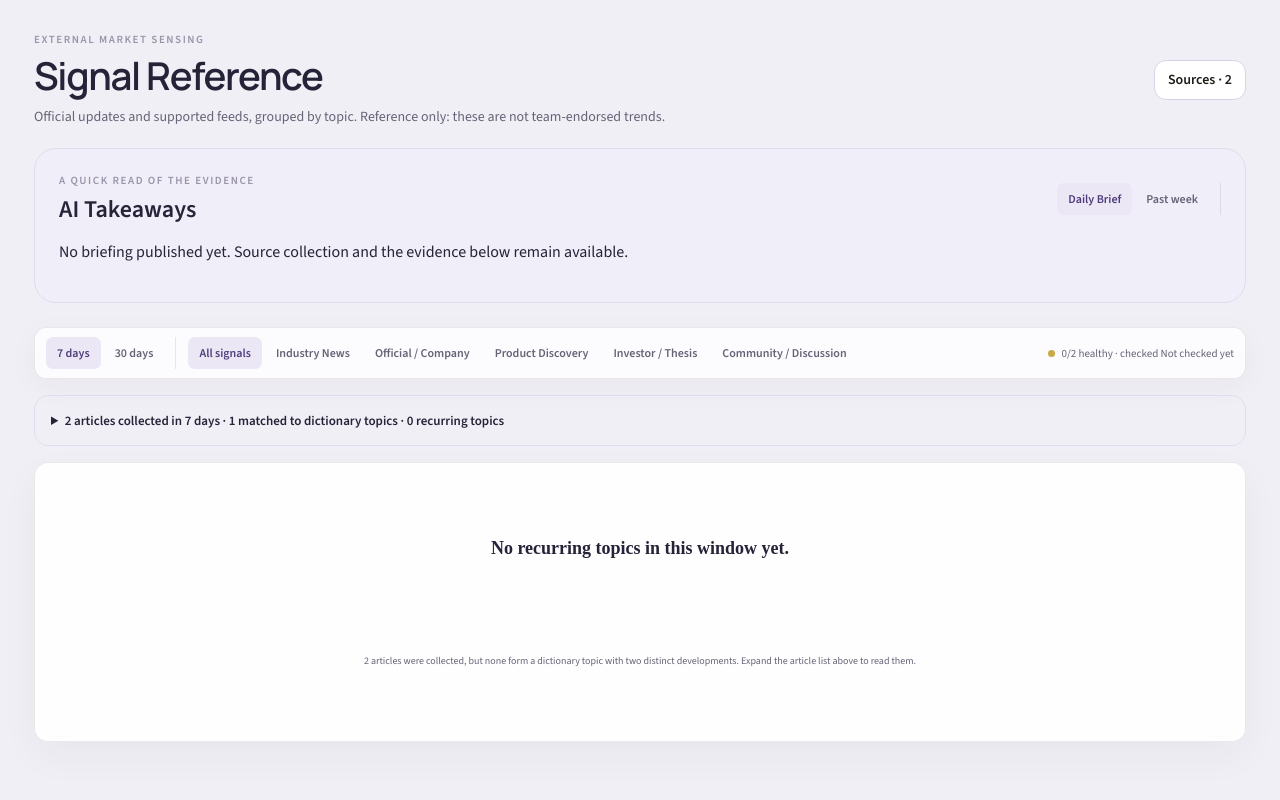
shows collected investor articles even when no recurring topic qualifies
Click the button "Investor / Thesis".
click(655, 353)  # box left=602, top=337, right=708, bottom=369
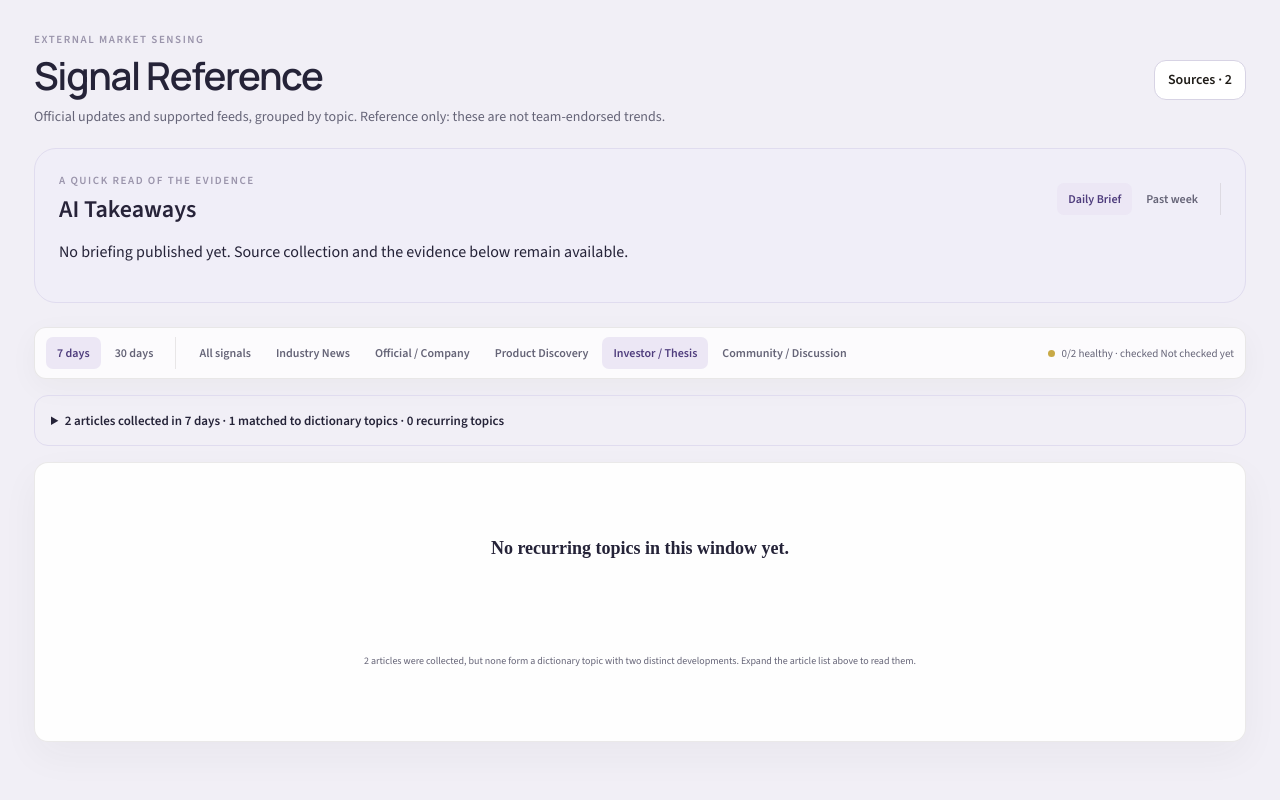
Click the heading "2 articles collected in 7 days · 1 matched to dictionary topics · 0 recurring topics".
click(285, 421)  # box left=65, top=412, right=504, bottom=429
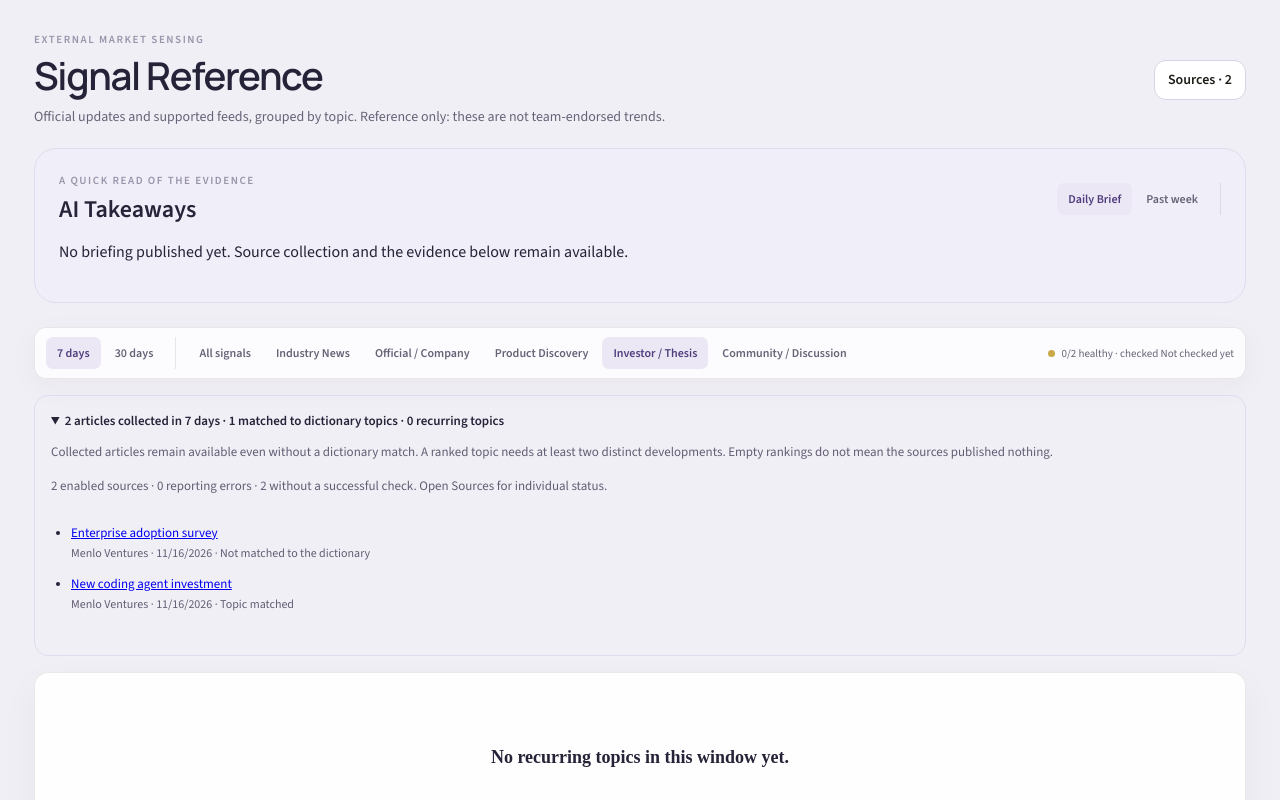
expect the text "No recurring topics in this window yet." is shown: met, box left=491, top=747, right=789, bottom=768
expect the link "New coding agent investment" is shown: met, box left=71, top=575, right=232, bottom=592
